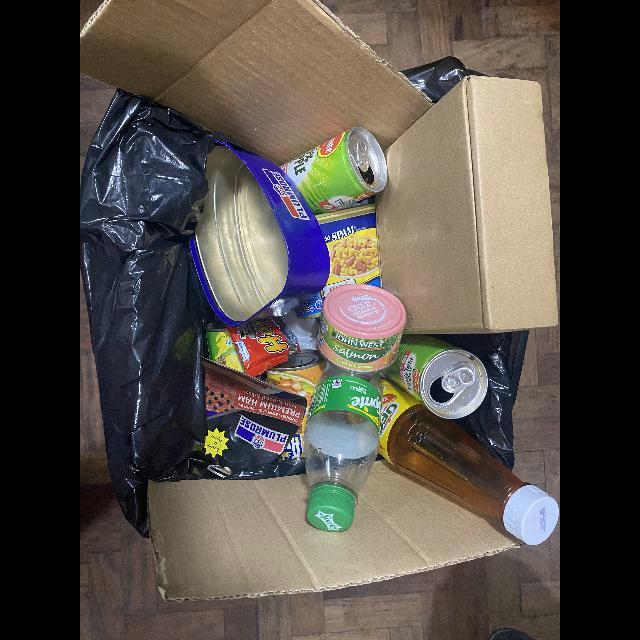aluminum: (189, 140, 331, 328), (295, 204, 380, 320), (280, 127, 387, 215), (382, 334, 488, 420), (317, 284, 407, 375), (266, 349, 325, 461), (205, 320, 246, 373)
cardboard: (80, 0, 434, 166), (375, 76, 559, 334)
food_wrapper: (201, 357, 307, 471), (226, 317, 301, 377)
glass_bottle: (379, 377, 559, 546)
plastic_bottle: (303, 363, 383, 532)
